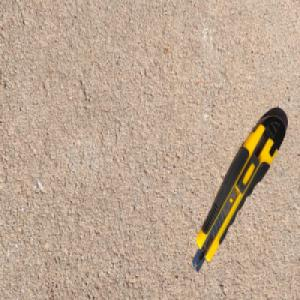Cutter: (190, 113, 286, 274)
